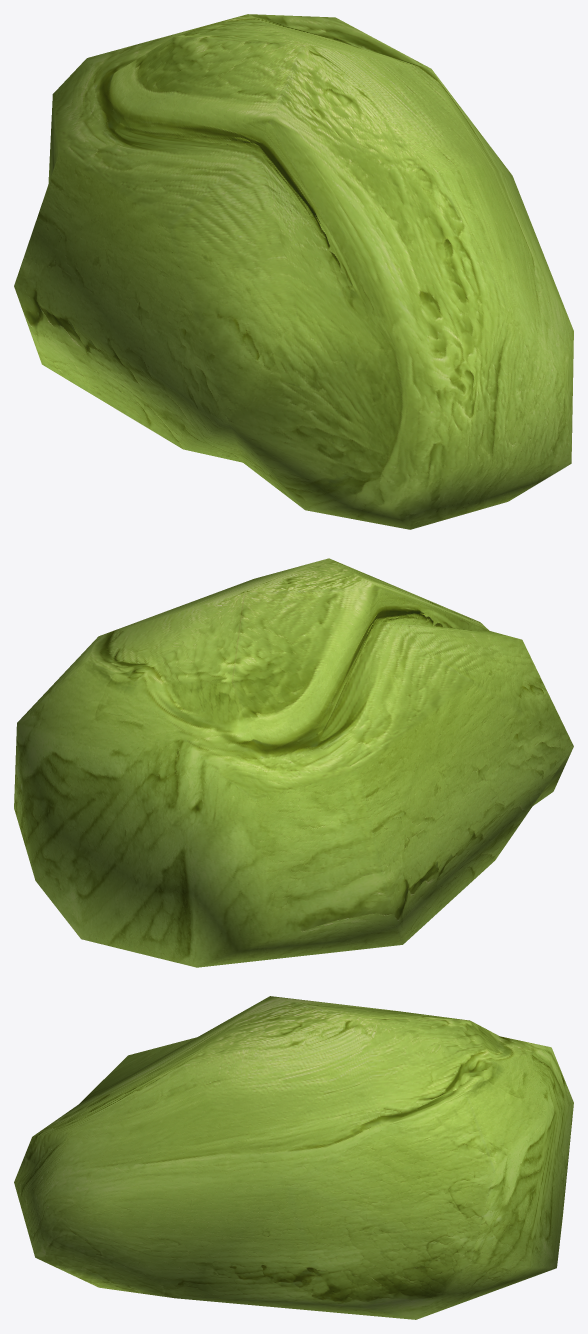
The model's file is Meshy_AI_Whipped_Cream_Scoop_0612082114_texture.fbx.
3 views of the same model, one above another, from view 1: azimuth 30°, elevation 25°; view 2: azimuth 150°, elevation 25°; view 3: azimuth 270°, elevation 25° (orthographic). The views are drawn at different scales.
Visible parts, largest first — view 1: Mesh_0; view 2: Mesh_0; view 3: Mesh_0.
Boxes of the visible parts, left/top/right/bottom form: Mesh_0: left=14, top=14, right=573, bottom=529; Mesh_0: left=14, top=558, right=573, bottom=967; Mesh_0: left=14, top=996, right=573, bottom=1319.
Bounding box in the file's own units: 123 × 87.99 × 187.
1 material, 1 textured.
